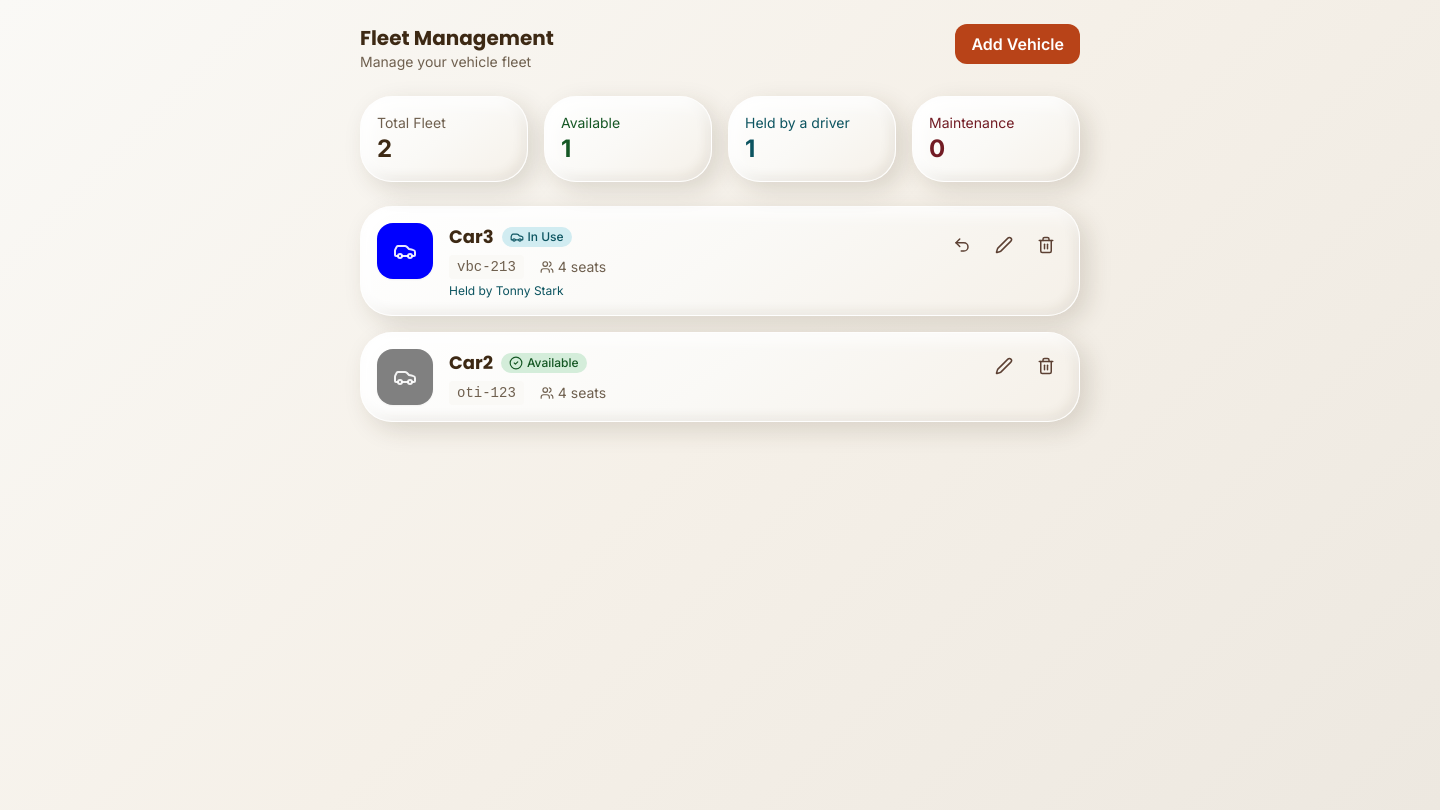
Test case: FleetManagement — Release asks first, then actually releases › surfaces the server's refusal rather than swallowing it
Click the button named "release car3 back to the fleet": (962, 245) left=945, top=223, right=979, bottom=267
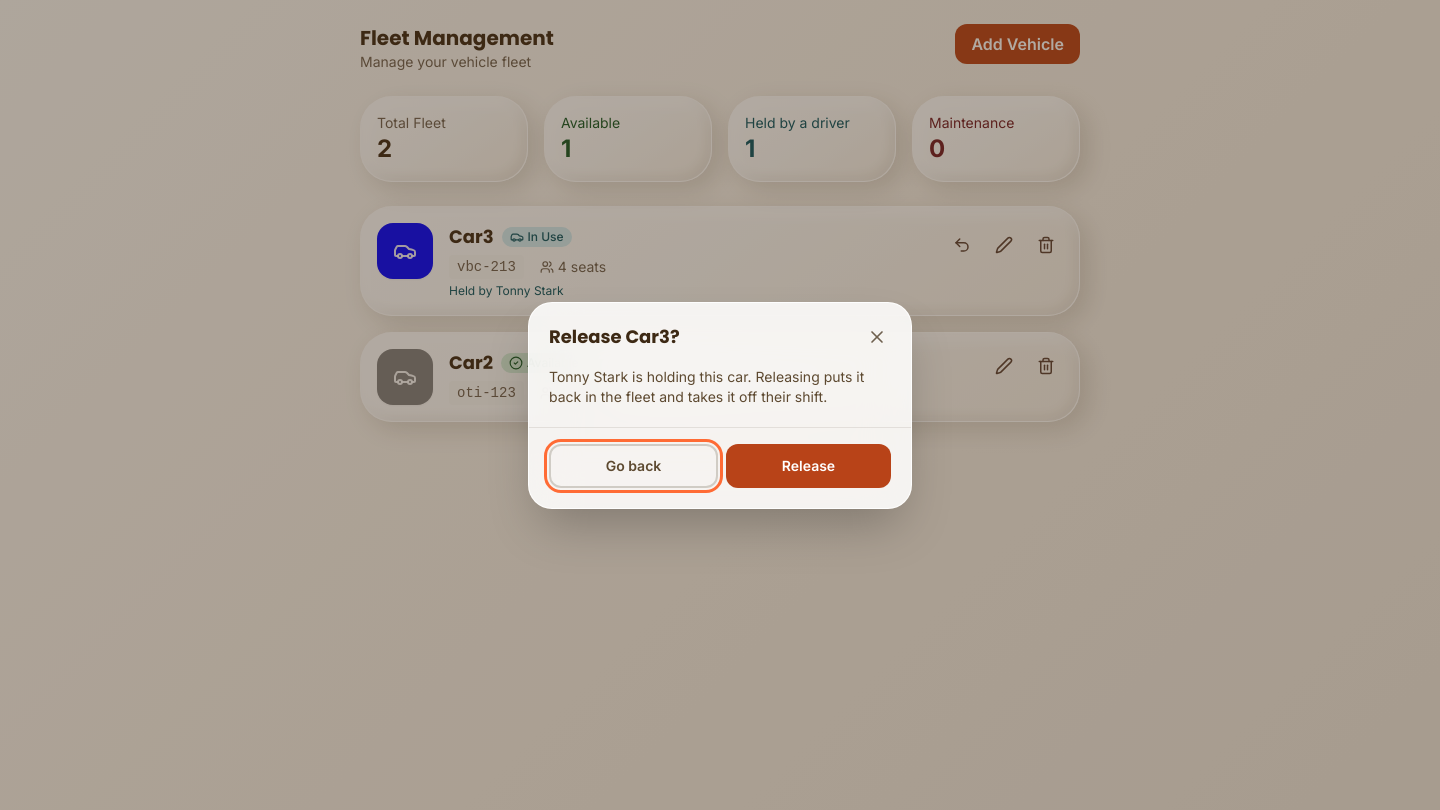
Click the button "Release": (808, 466) left=726, top=444, right=891, bottom=488
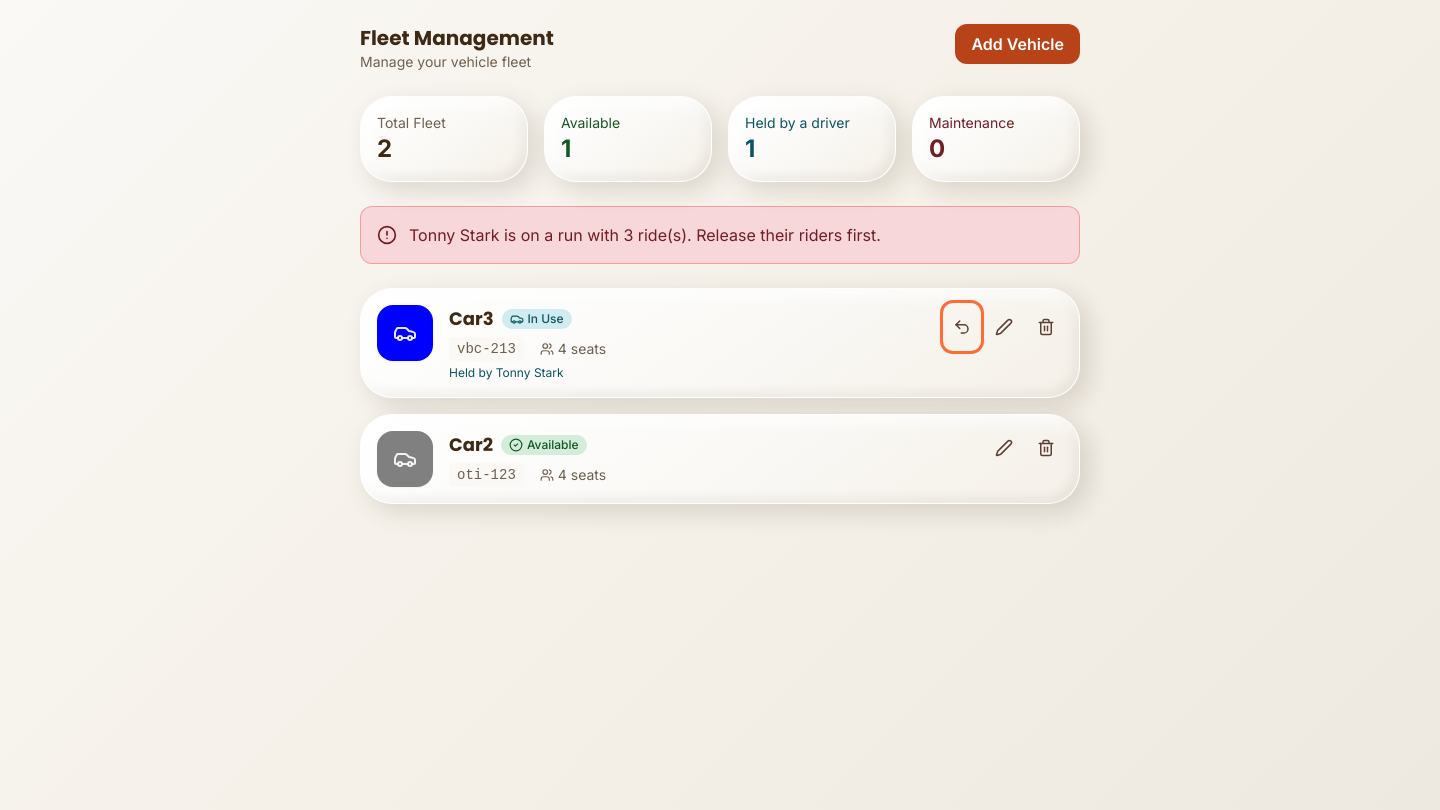
Result: the text "on a run with 3 ride" is shown at left=409, top=225, right=881, bottom=245
